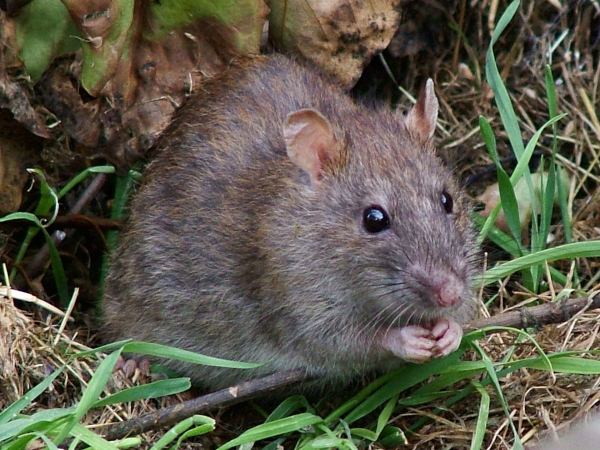rat: (70, 40, 482, 377)
